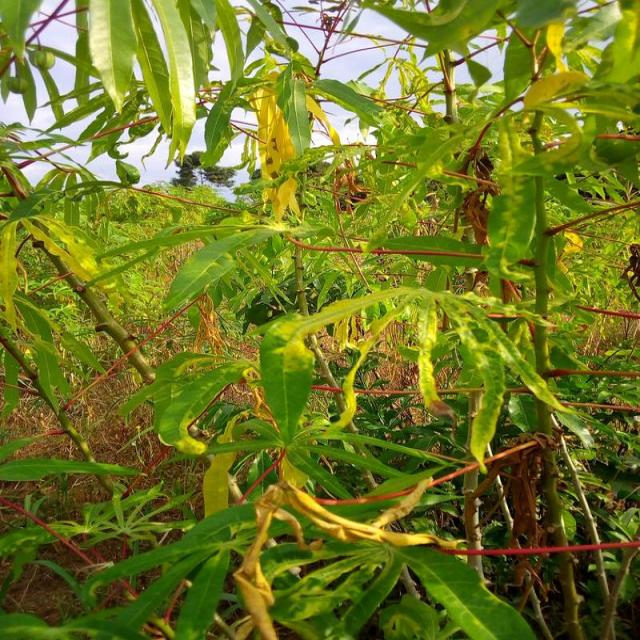cassava leaf: (258, 318, 314, 446)
